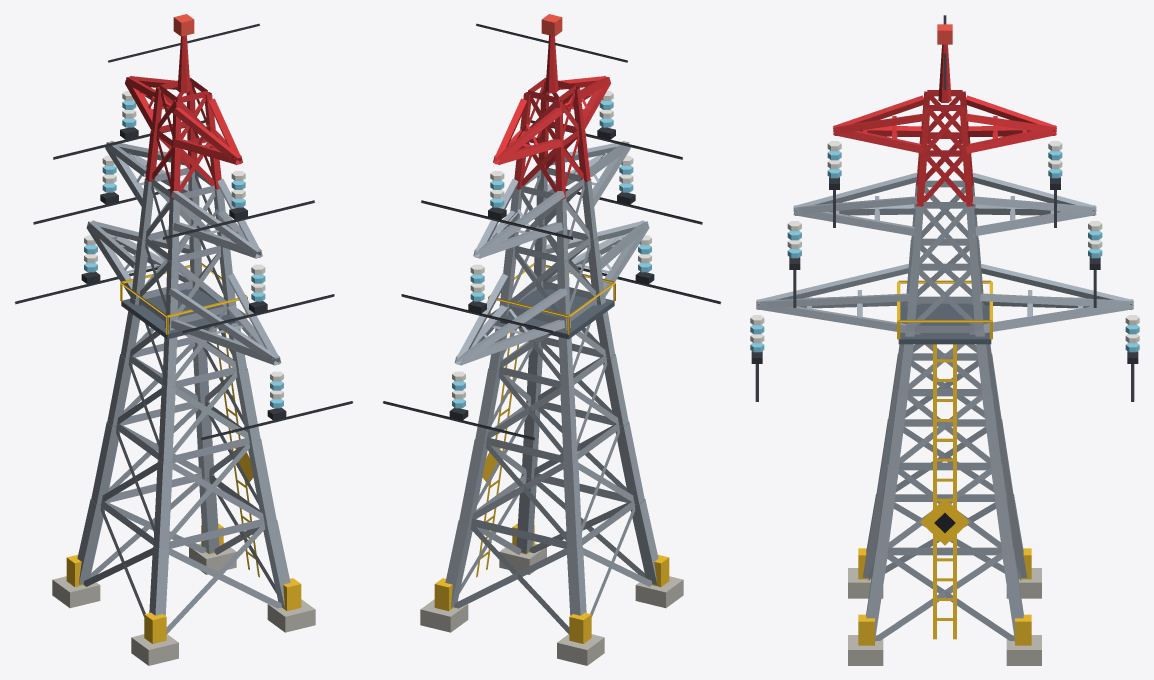
The model's file is power_pylon.glb.
3 views of the same model, side by side, from view 1: azimuth 30°, elevation 25°; view 2: azimuth 150°, elevation 25°; view 3: azimuth 270°, elevation 25° (orthographic).
Parts seen in each view (by area): view 1: Body; view 2: Body; view 3: Body.
Boxes of the visible parts, left/top/right/bottom form: Body: left=14, top=14, right=353, bottom=665; Body: left=382, top=14, right=721, bottom=665; Body: left=750, top=15, right=1139, bottom=665.
Bounding box in the file's own units: 0.88 × 2.99 × 1.76.
